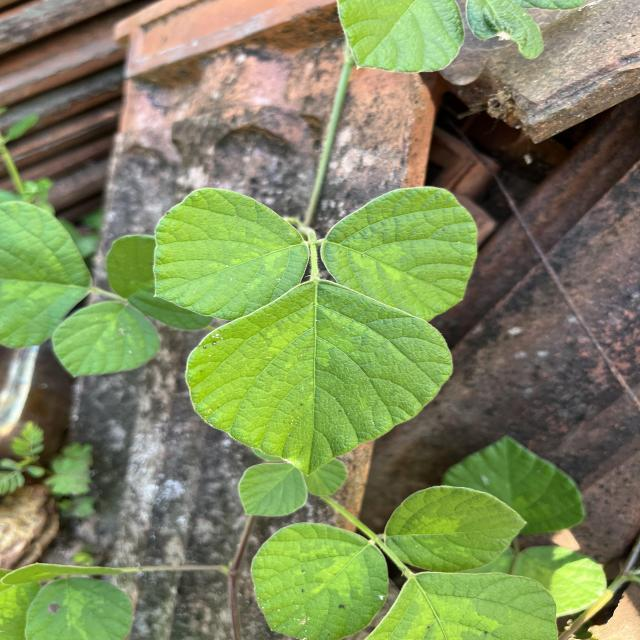Pseudarthria viscida: (150, 183, 481, 479)
